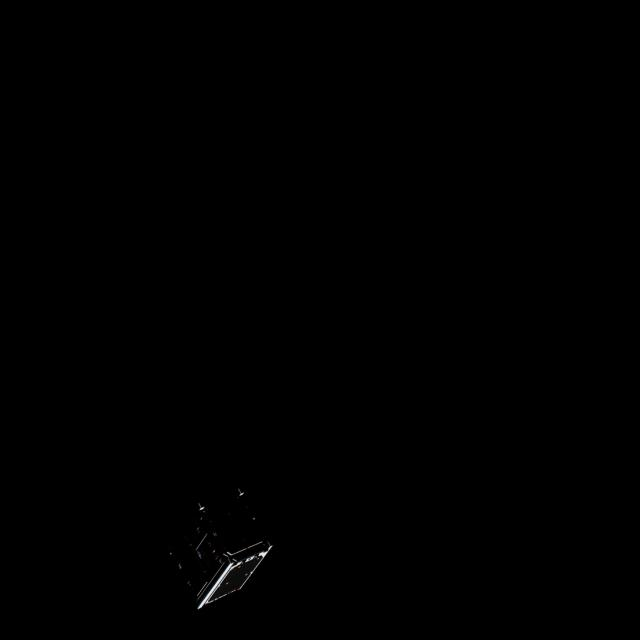medium_debris: (170, 484, 278, 614)
